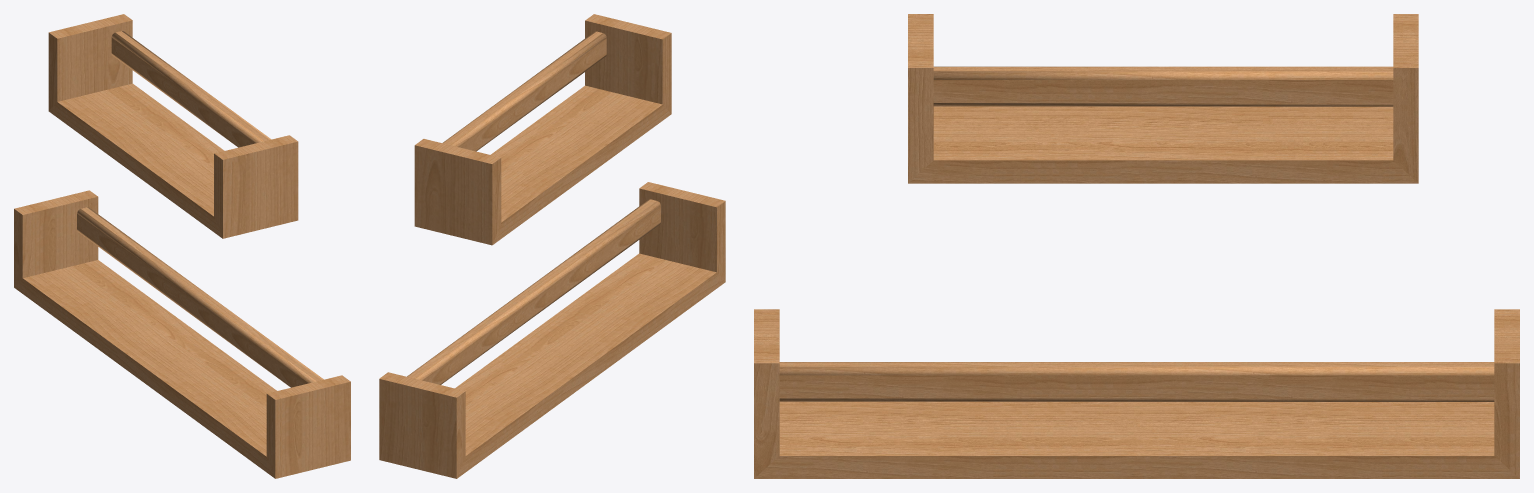
Rendered from rak kayu.glb.
3 views of the same model, side by side, from view 1: azimuth 30°, elevation 25°; view 2: azimuth 150°, elevation 25°; view 3: azimuth 270°, elevation 25° (orthographic). The views are drawn at different scales.
Visible parts, largest first — view 1: G-__557598, G-__557643, G-__557589, G-__557661, G-__557607, G-__557652, G-__557616, G-__557634; view 2: G-__557598, G-__557643, G-__557589, G-__557652, G-__557616, G-__557661, G-__557607, G-__557634; view 3: G-__557598, G-__557643, G-__557589, G-__557634, G-__557607, G-__557616, G-__557652, G-__557661.
Boxes of the visible parts, x1,y1,x2,y2 form: G-__557598: [14, 260, 276, 478]; G-__557643: [48, 83, 224, 238]; G-__557589: [77, 207, 323, 387]; G-__557661: [214, 135, 298, 238]; G-__557607: [266, 375, 350, 478]; G-__557652: [48, 14, 132, 110]; G-__557616: [14, 190, 98, 287]; G-__557634: [111, 31, 271, 147]; G-__557598: [455, 253, 725, 478]; G-__557643: [490, 85, 671, 244]; G-__557589: [407, 199, 660, 384]; G-__557652: [414, 139, 501, 245]; G-__557616: [379, 372, 465, 478]; G-__557661: [585, 14, 671, 113]; G-__557607: [639, 182, 725, 281]; G-__557634: [442, 31, 606, 151]; G-__557598: [754, 402, 1519, 478]; G-__557643: [908, 106, 1418, 183]; G-__557589: [779, 362, 1494, 401]; G-__557634: [933, 66, 1393, 106]; G-__557607: [754, 309, 779, 478]; G-__557616: [1494, 309, 1519, 478]; G-__557652: [1393, 14, 1418, 182]; G-__557661: [908, 14, 933, 183].
Size of the model in its own units: 0.1 by 0.3553 by 0.6.
Materials: 2 (2 with a texture image).
